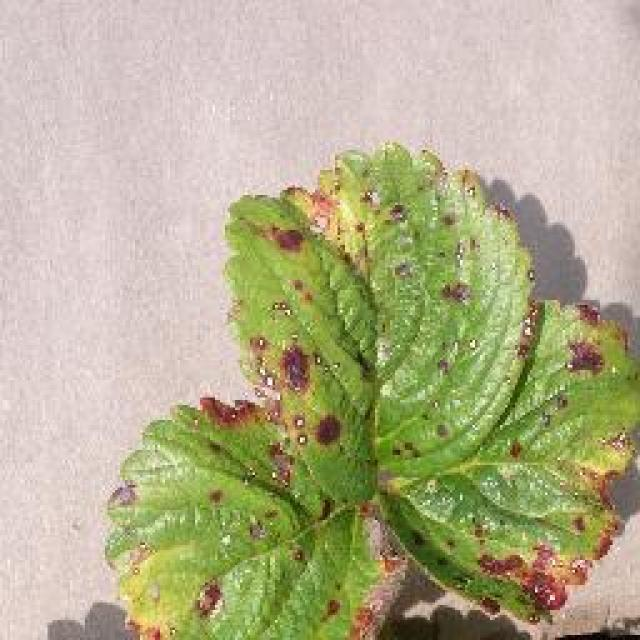Strawberry leaf scorch: (166, 166, 626, 640)
